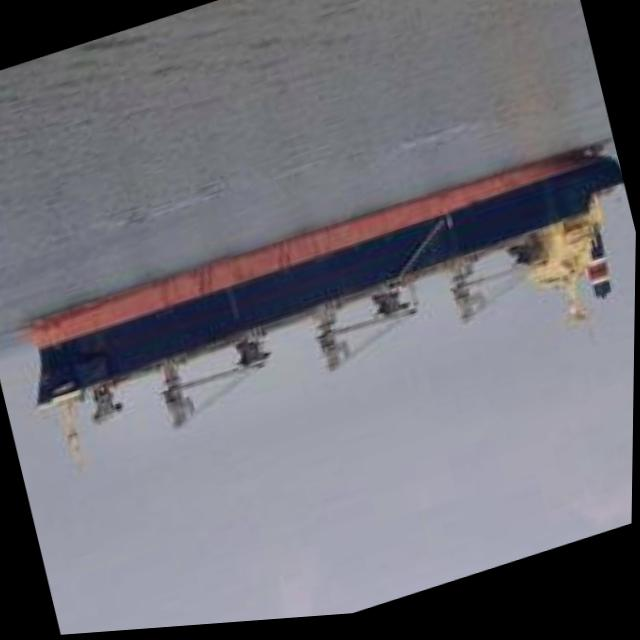ship2: (29, 156, 624, 475)
